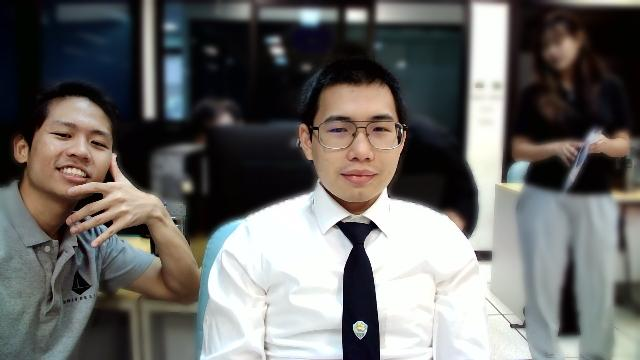fokus: (307, 66, 405, 205)
